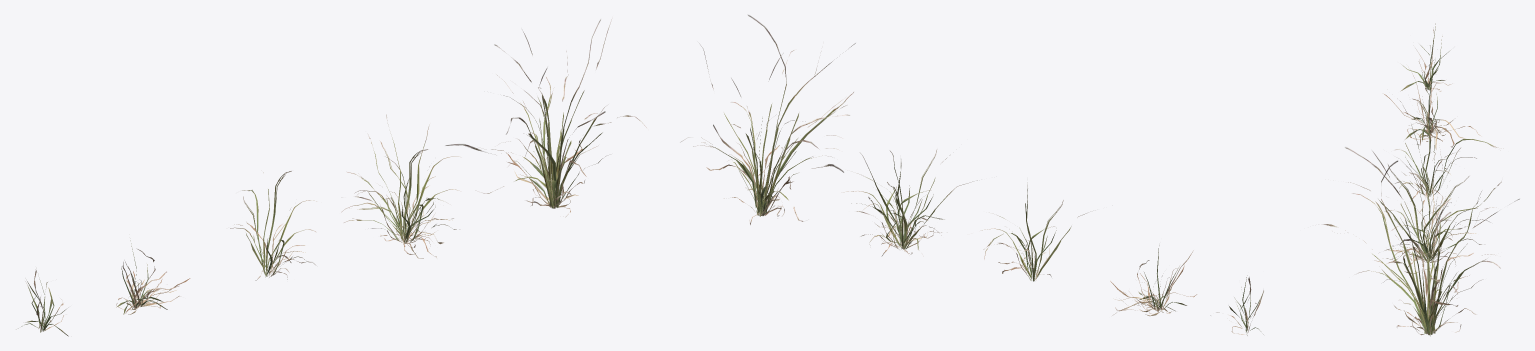
Rendered from grass_medium_02.glb.
3 renders of one model, left to right at view 1: azimuth 30°, elevation 25°; view 2: azimuth 150°, elevation 25°; view 3: azimuth 270°, elevation 25°, orthographic. The views are drawn at different scales.
Parts seen in each view (by area): view 1: grass_medium_02_a; view 2: grass_medium_02_a; view 3: grass_medium_02_a.
Part boxes in pixels (box(x1,y1,x2,y2)): grass_medium_02_a: box(16, 18, 647, 336); grass_medium_02_a: box(680, 15, 1263, 335); grass_medium_02_a: box(1322, 23, 1519, 336).
Size of the model in its own units: 1.31 by 0.4053 by 0.4326.
Materials: 1 (1 with a texture image).
